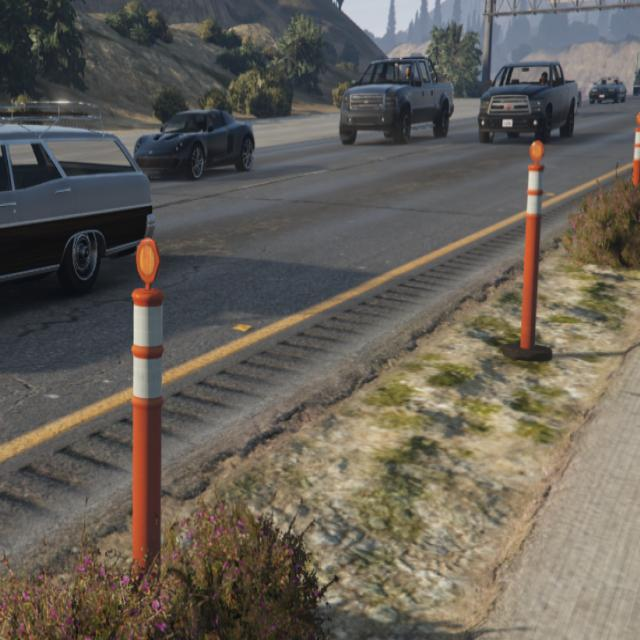car: (2, 117, 150, 293), (338, 51, 453, 145), (131, 105, 254, 177), (475, 60, 578, 140), (588, 71, 626, 104)
warning_column: (117, 236, 167, 564), (506, 134, 553, 361), (631, 108, 639, 188)
